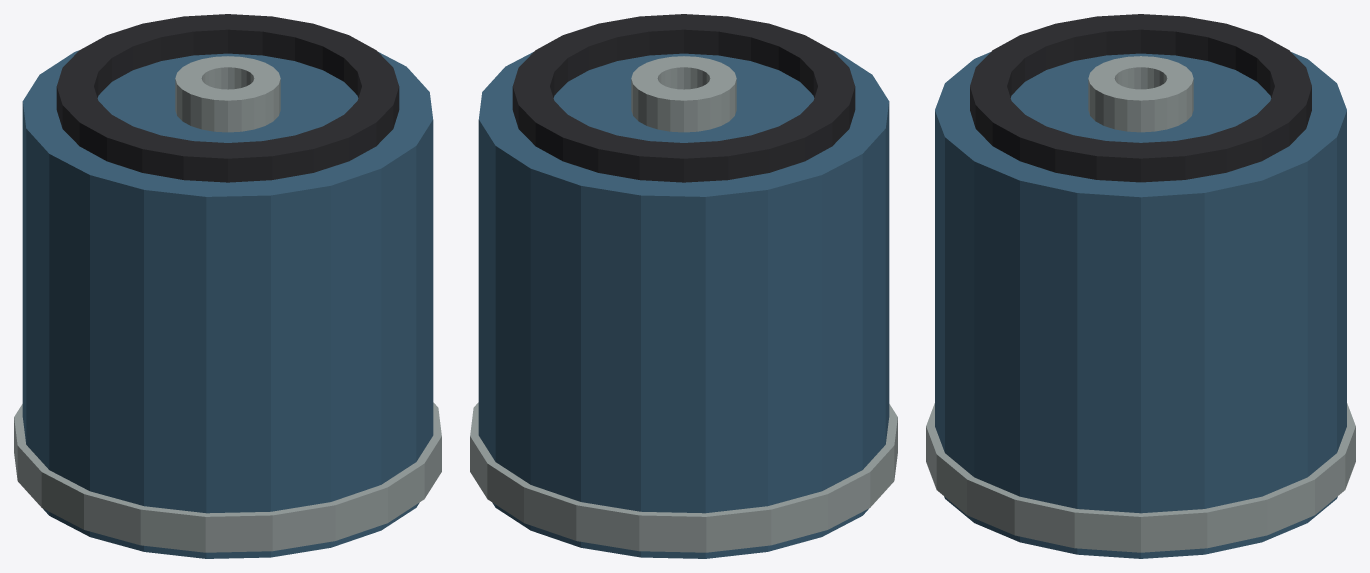
File: ENG_OilFilter.glb
The picture shows the model from 3 angles, left to right: view 1: azimuth 30°, elevation 25°; view 2: azimuth 150°, elevation 25°; view 3: azimuth 270°, elevation 25°; orthographic projection.
Visible parts, largest first — view 1: Housing, Seal, Crimp, Thread; view 2: Housing, Seal, Crimp, Thread; view 3: Housing, Seal, Crimp, Thread.
Boxes of the visible parts, bbox=[...] form: Housing: bbox=[22, 50, 433, 558]; Seal: bbox=[56, 14, 399, 182]; Crimp: bbox=[14, 402, 441, 552]; Thread: bbox=[175, 56, 280, 132]; Housing: bbox=[478, 50, 889, 558]; Seal: bbox=[512, 14, 855, 182]; Crimp: bbox=[470, 402, 897, 552]; Thread: bbox=[631, 56, 736, 132]; Housing: bbox=[935, 52, 1346, 558]; Seal: bbox=[970, 14, 1311, 182]; Crimp: bbox=[926, 403, 1355, 552]; Thread: bbox=[1088, 56, 1193, 132].
Bounding box in the file's own units: 0.098 × 0.099 × 0.098.
